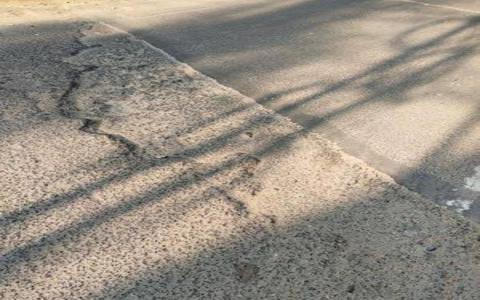patchy roads: (43, 18, 227, 221), (146, 92, 345, 263)
